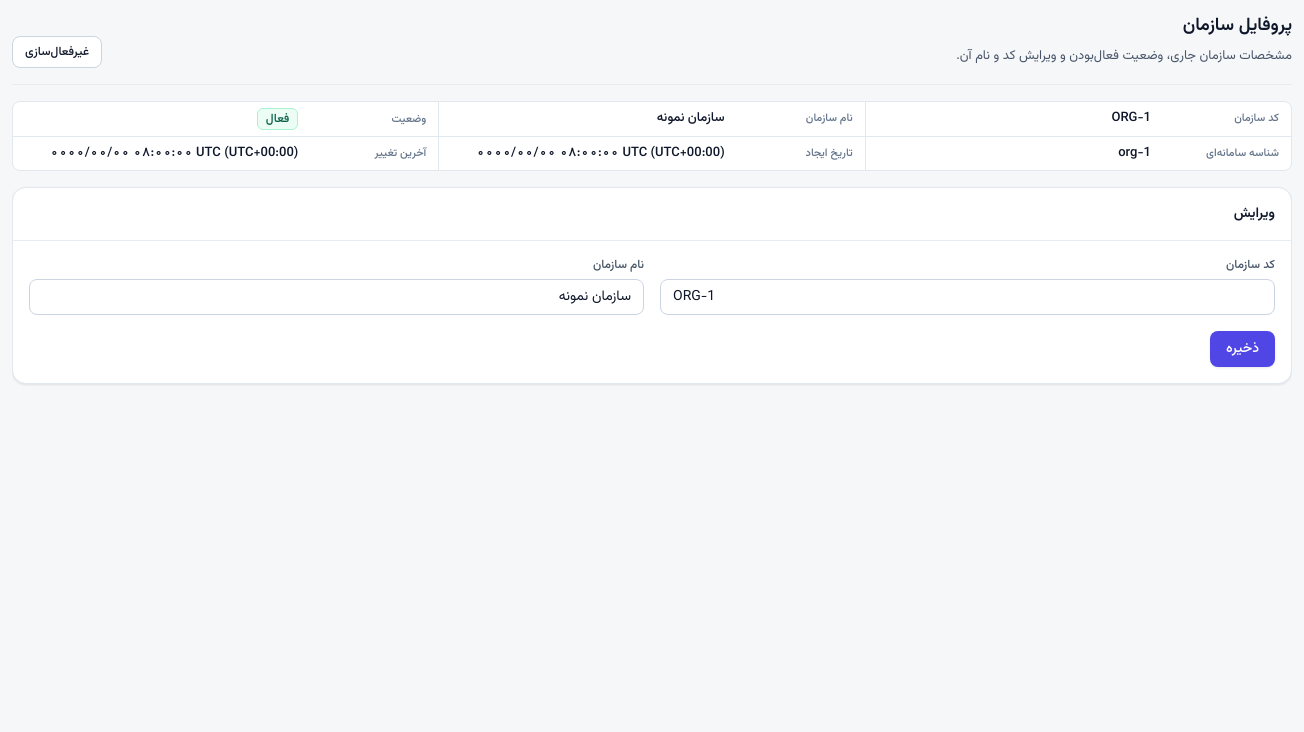
it: organization profile › reads and writes only the organization of the active context
Expected: the element with test id "organization-profile-page" is shown, [12,12,1292,384]
Replace the text in the field labelled "نام سازمان" with "سازمان نمونه ویرایش‌شده": (336, 297) [29,279,644,315]
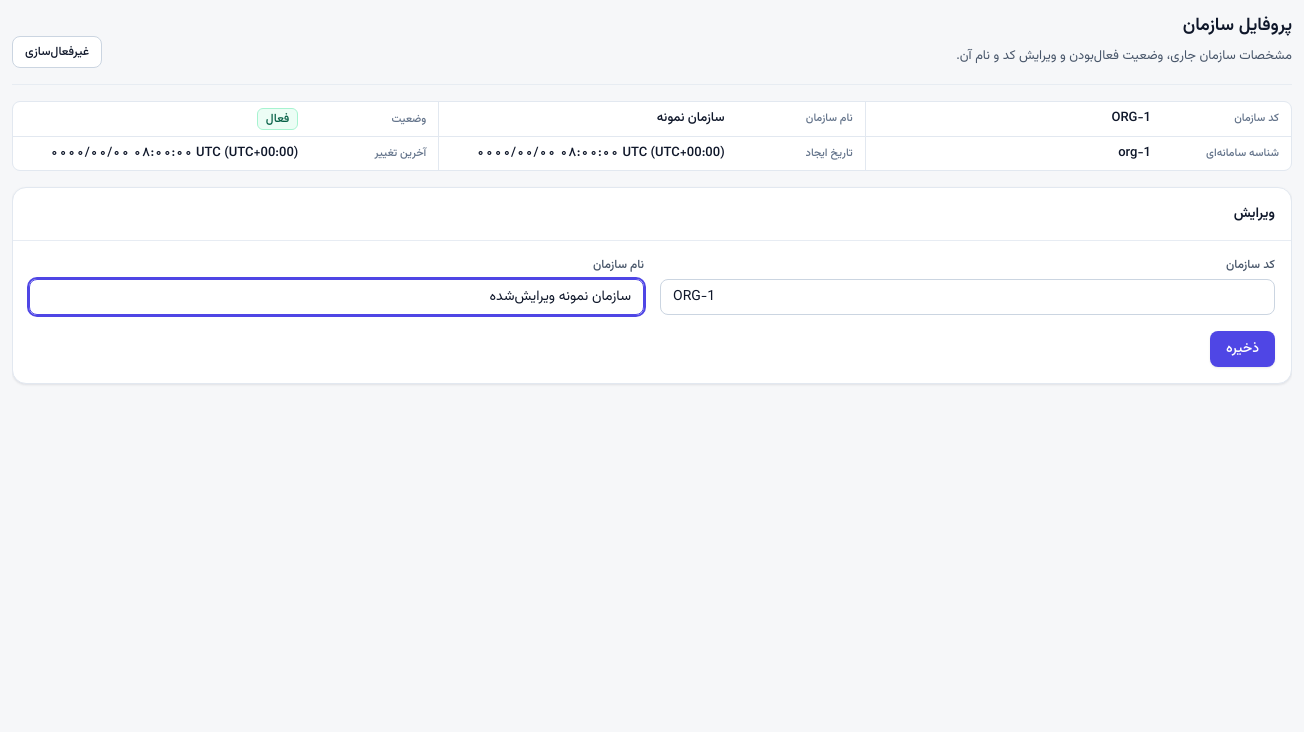
Click the button with test id "organization-profile-submit": (1243, 349) [1210,331,1275,367]
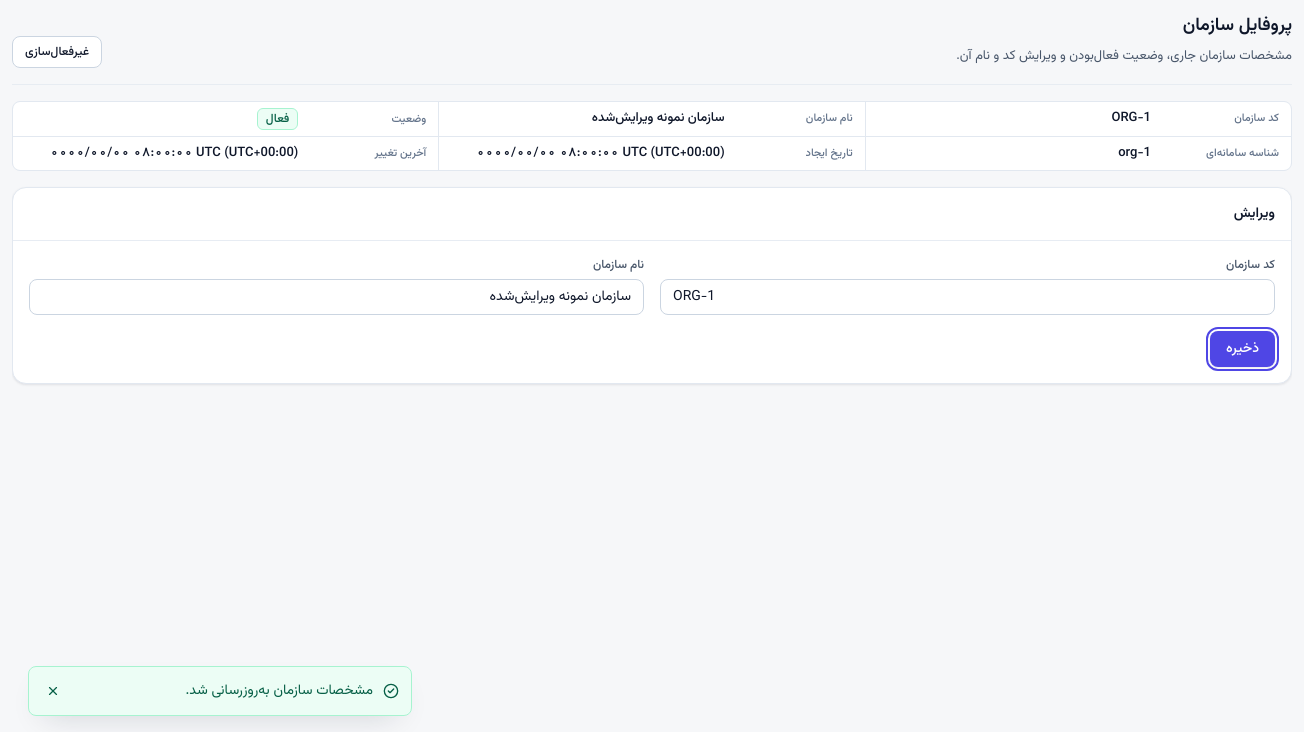
Expected: the text "مشخصات سازمان به‌روزرسانی شد." is shown, [185,680,373,702]
